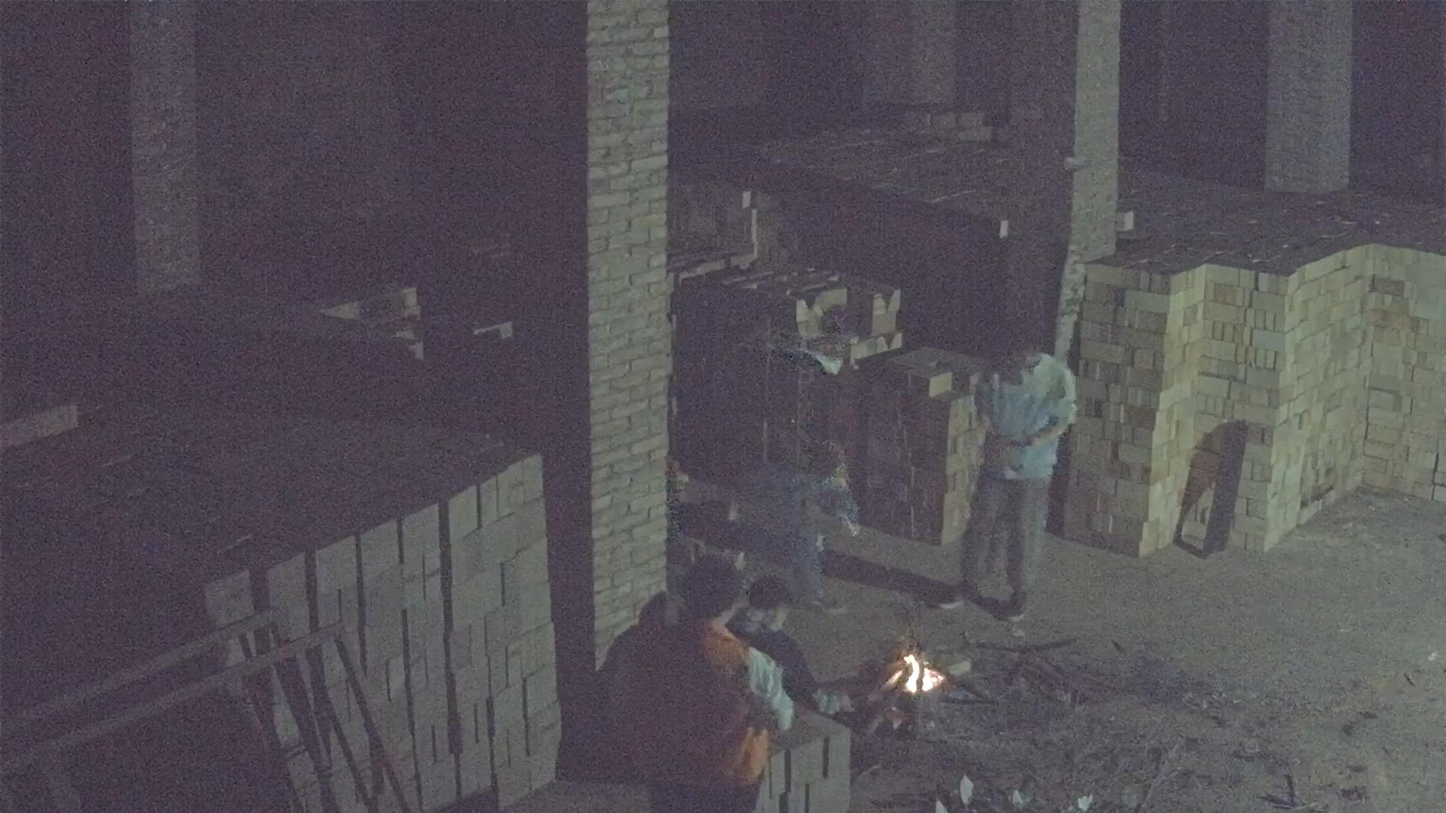fire: (883, 649, 945, 695)
